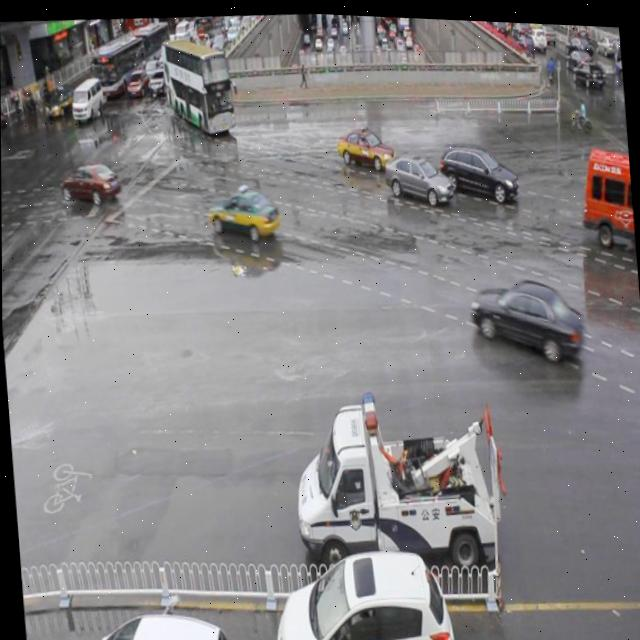bus: (288, 376, 508, 585)
car: (268, 534, 454, 640), (466, 267, 583, 363), (63, 600, 236, 640), (436, 135, 517, 204), (204, 180, 280, 243), (382, 146, 452, 206), (334, 120, 394, 174), (616, 174, 634, 226)
truck: (578, 138, 635, 258)
van: (158, 32, 236, 138)
